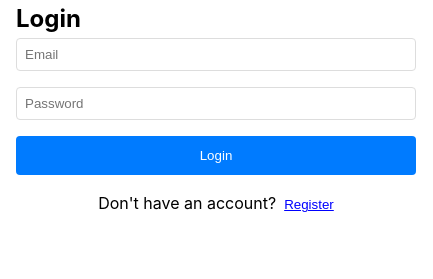
Test: Login Component › switches to register form
Click the button "Register": (309, 205) [284, 197, 334, 212]
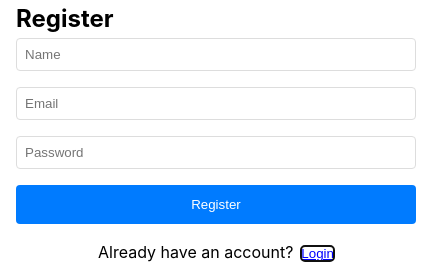
expect the heading "Register" is shown: met, box [16, 4, 114, 33]
expect the field with placeholder "Name" is shown: met, box [16, 38, 416, 71]
